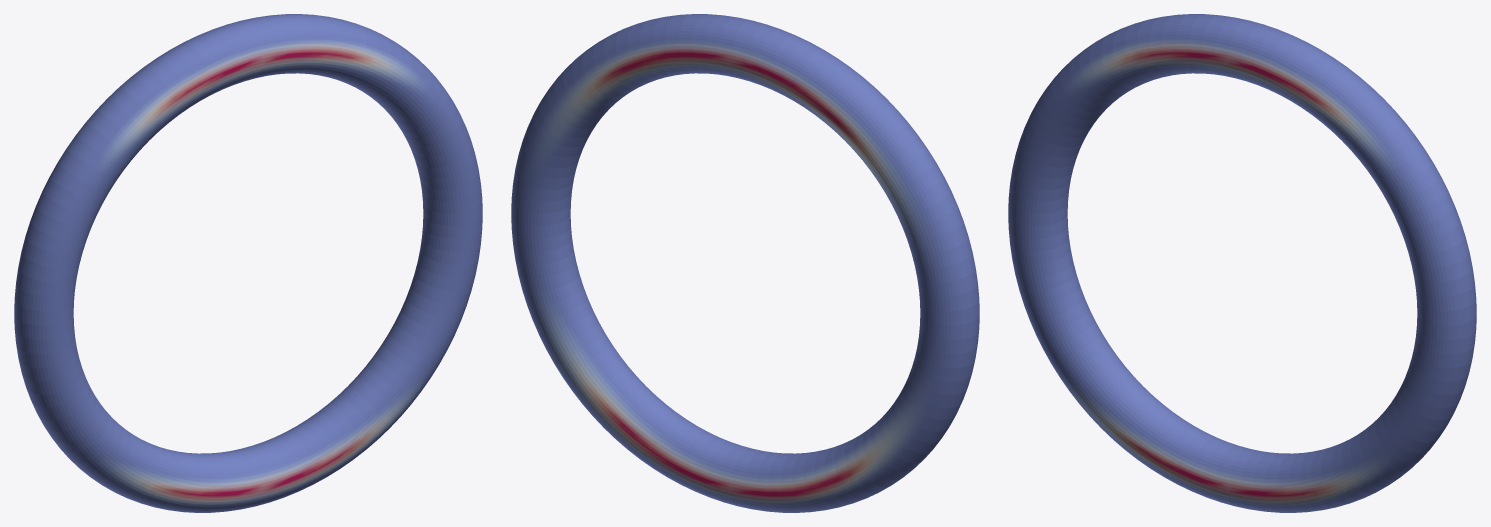
3 renders of one model, left to right at view 1: azimuth 30°, elevation 25°; view 2: azimuth 150°, elevation 25°; view 3: azimuth 330°, elevation 25°, orthographic.
Parts seen in each view (by area): view 1: world; view 2: world; view 3: world.
Part boxes in pixels (box(x1,y1,x2,y2)): world: box(14, 14, 482, 512); world: box(511, 14, 979, 512); world: box(1008, 14, 1476, 512).
Bounding box in the file's own units: 20.27 × 20.27 × 2.26.
